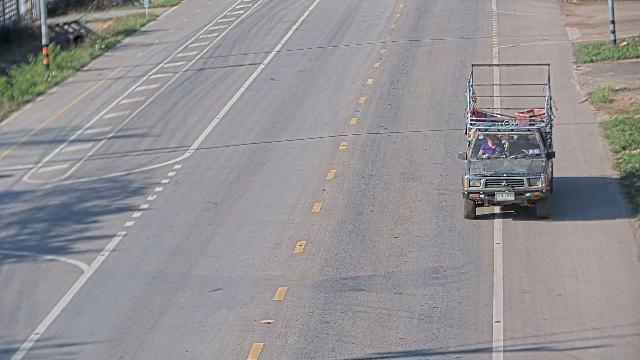pickup-truck: (457, 62, 556, 220)
